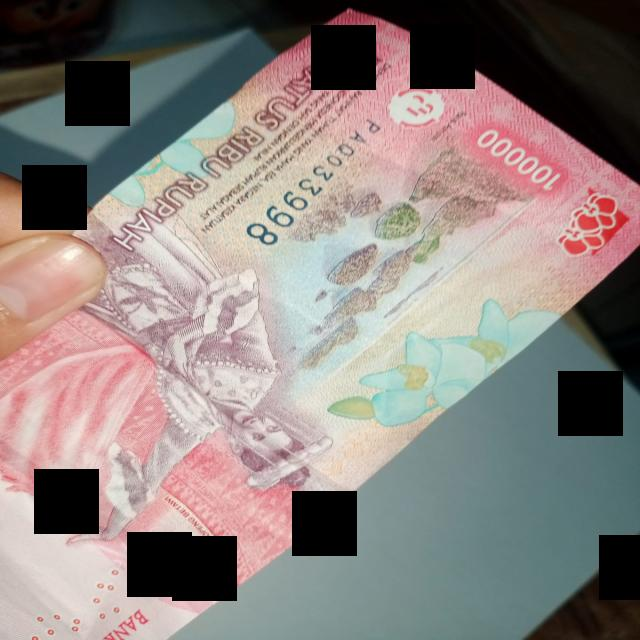seratusribu rupiah: (2, 11, 638, 640)
